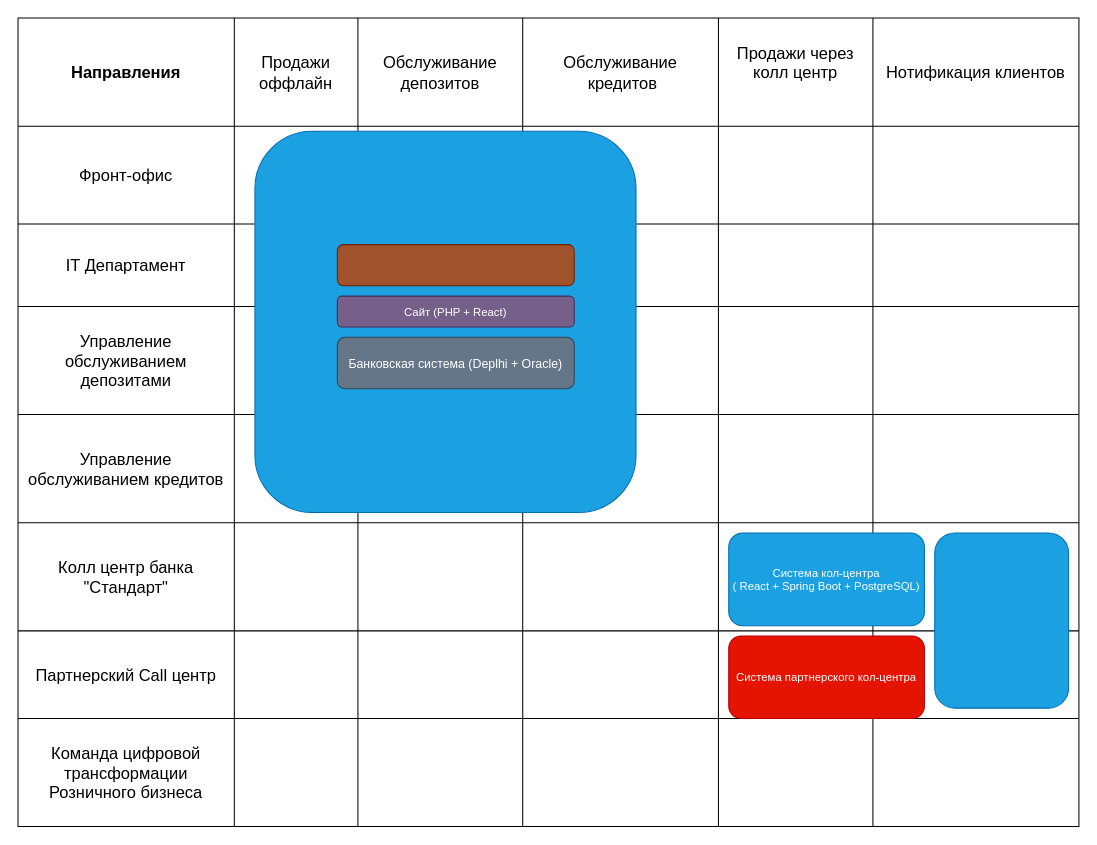
The diagram is 1097 pixels wide and 845 high, and some of its shapes have lost their labels. Each missing label, with the centre of its shape:
Интернет-банк(ASP.NET MVC + MS SQL): pixel 455 265
Телеком оператор (СМС провайдер): pixel 1001 620
